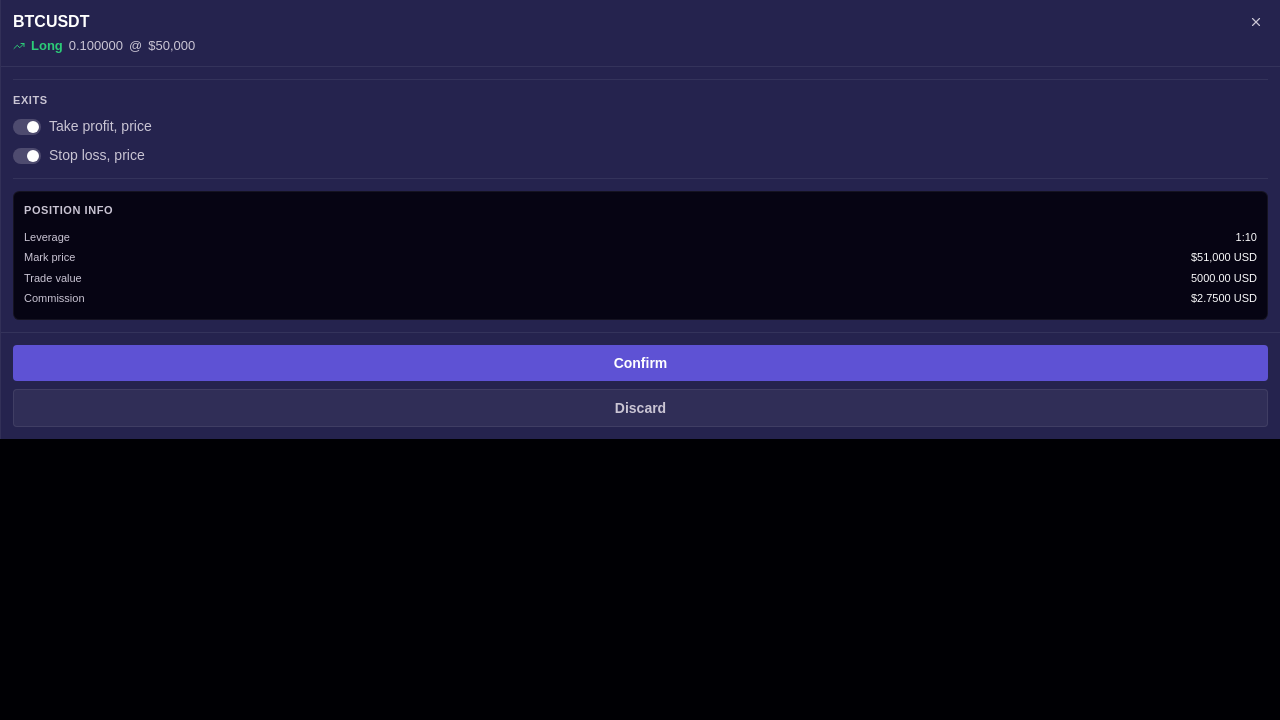
Test case: PositionEditPanel (BP-5 B) › warns (amber, not blocking) when the stop-loss is beyond the liquidation price
The image size is (1280, 720).
Click the switch named "Enable stop loss".
click(27, 156)  # box [13,148,41,164]
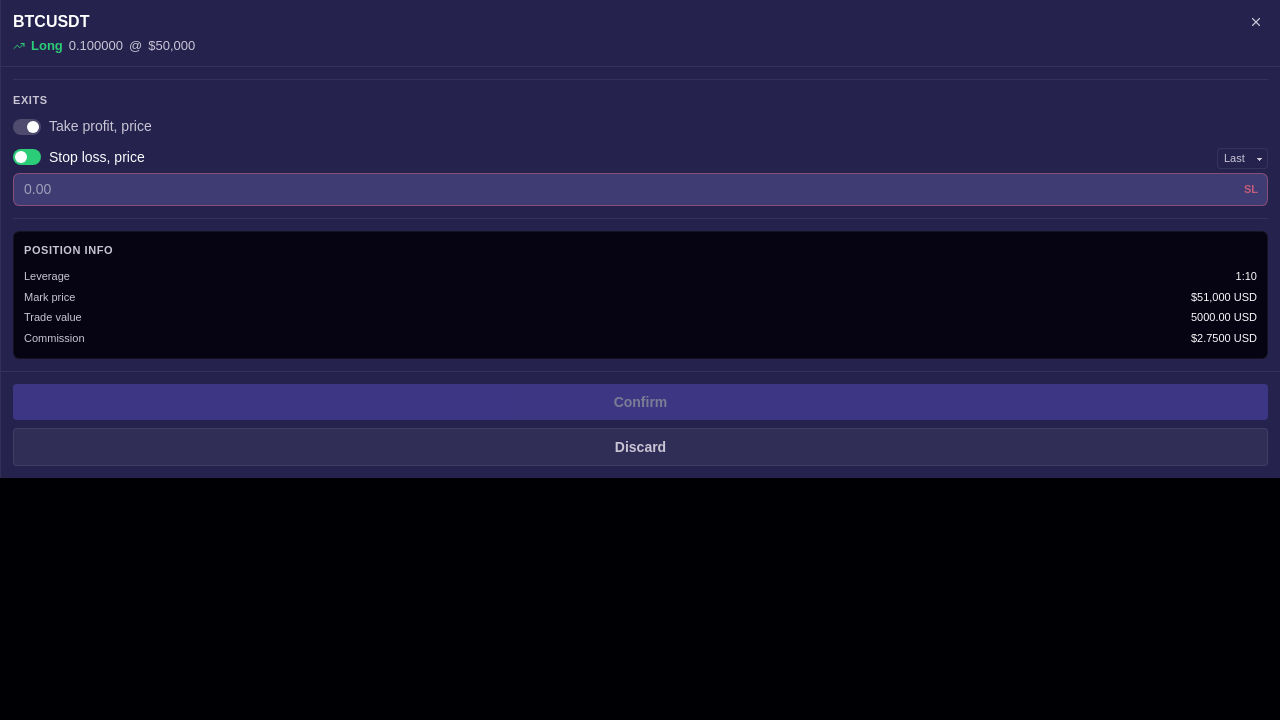
Type "44000" into the number field.
click(640, 189); type("44000")  # box [13,173,1268,206]
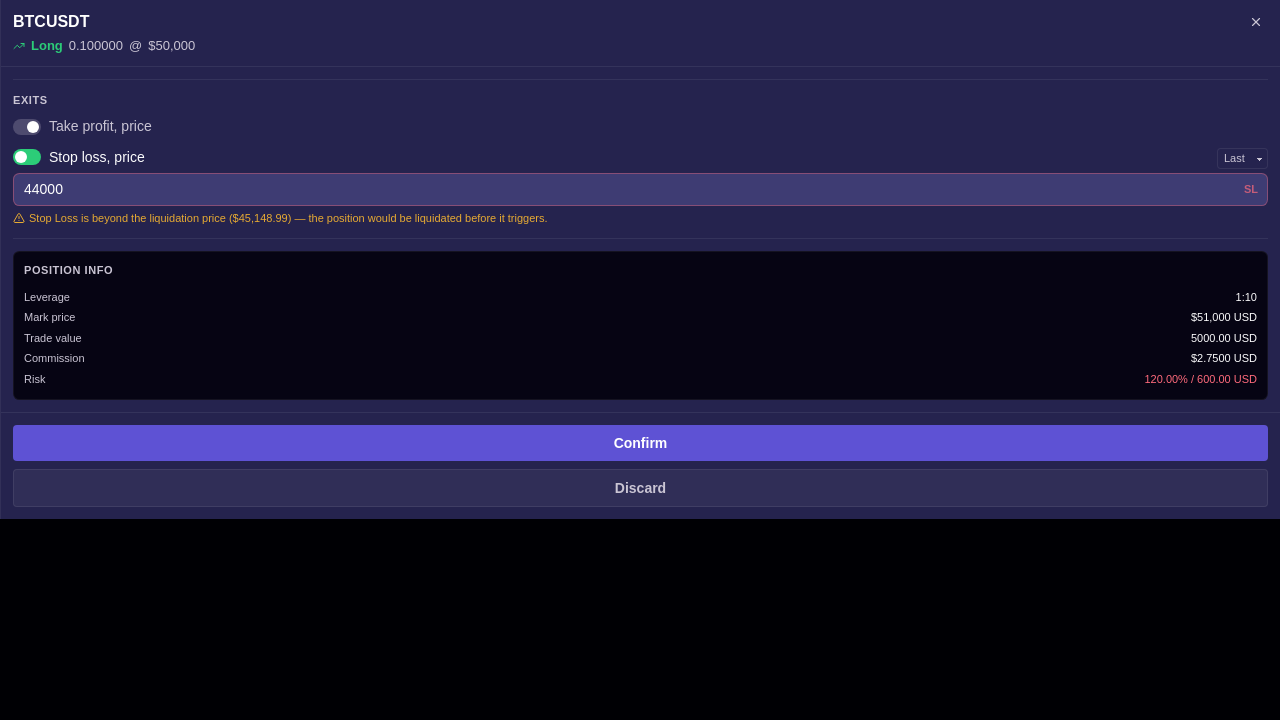
Expected: the text "beyond the liquidation price ($45,148.99)" is shown, [29,212,548,224]
Expected: the button "Confirm" is enabled, [13,425,1268,461]
